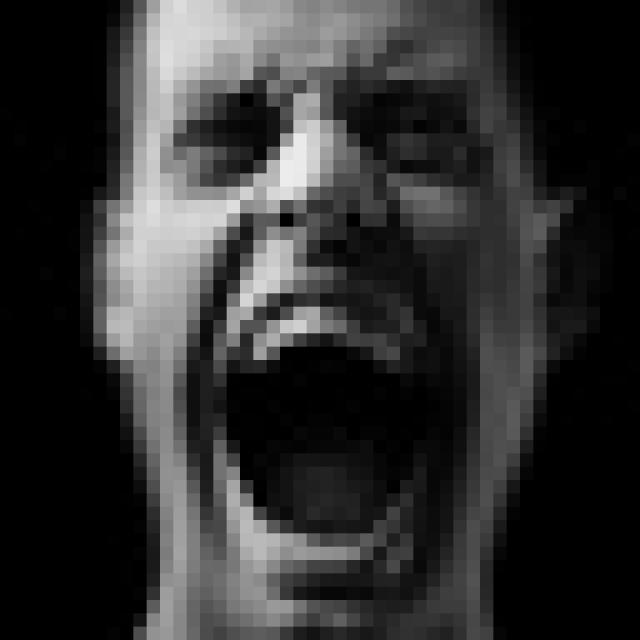angry: (157, 71, 496, 594)
